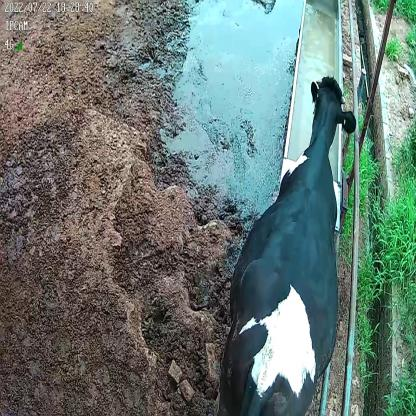cow: (216, 74, 360, 416)
